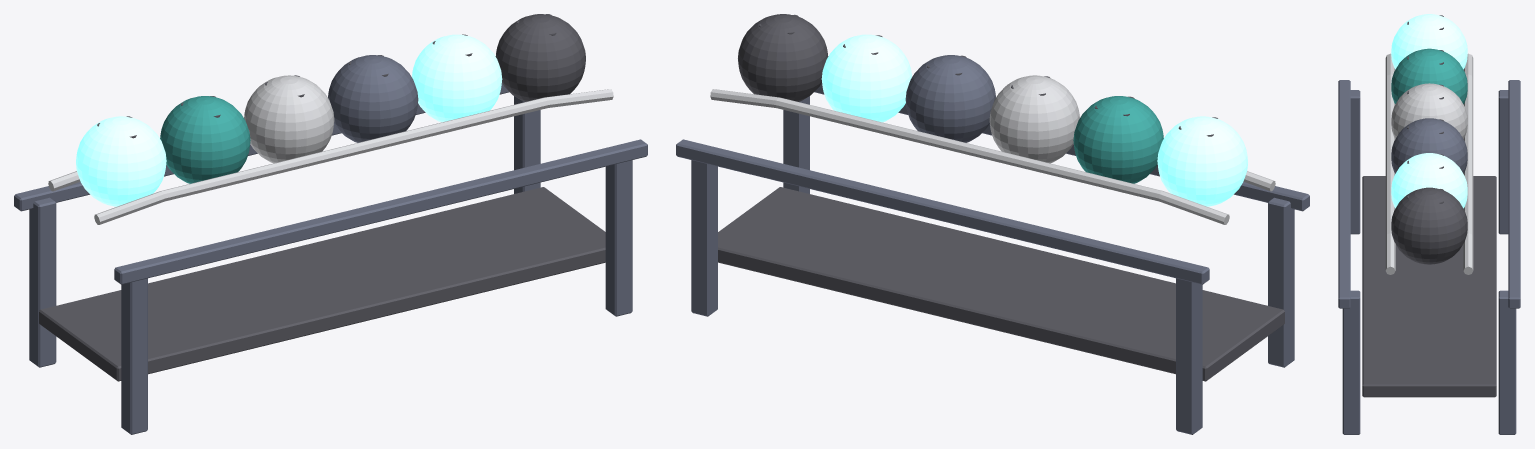
Rendered from bowling-alley-and-pool-hall-ball-rack-with-balls-cool-99ab2f97__33846.glb.
The picture shows the model from 3 angles, left to right: view 1: azimuth 30°, elevation 25°; view 2: azimuth 150°, elevation 25°; view 3: azimuth 270°, elevation 25°; orthographic projection. The views are drawn at different scales.
Visible parts, largest first — view 1: ball-rack-with-balls-cool; view 2: ball-rack-with-balls-cool; view 3: ball-rack-with-balls-cool.
Part boxes in pixels (x1,y1,x2,y2): ball-rack-with-balls-cool: (14, 14, 647, 434); ball-rack-with-balls-cool: (676, 14, 1309, 434); ball-rack-with-balls-cool: (1338, 14, 1520, 434).
Bounding box in the file's own units: 1.46 × 0.7076 × 0.5149.
